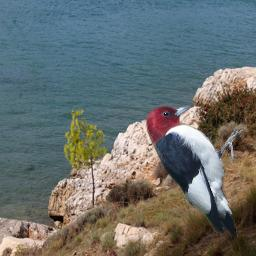Woodpecker: (145, 103, 248, 237)
